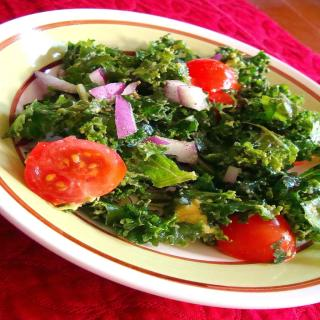tomato: (19, 132, 131, 208), (211, 212, 296, 262), (185, 58, 241, 107)
